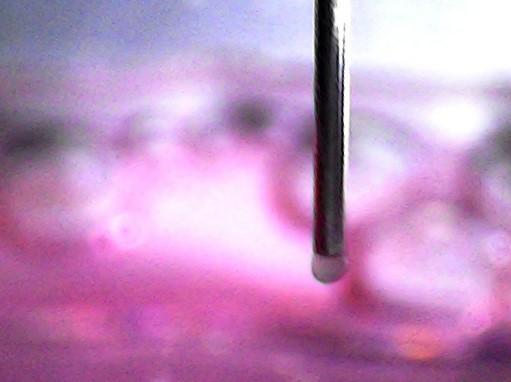water drop: (310, 250, 350, 284)
